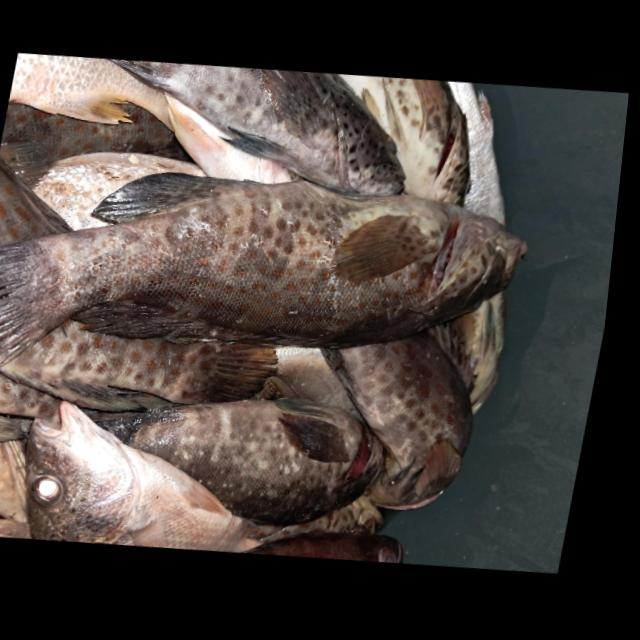Groupers: (0, 153, 551, 445), (72, 50, 432, 207), (3, 390, 293, 560), (306, 308, 501, 504)
